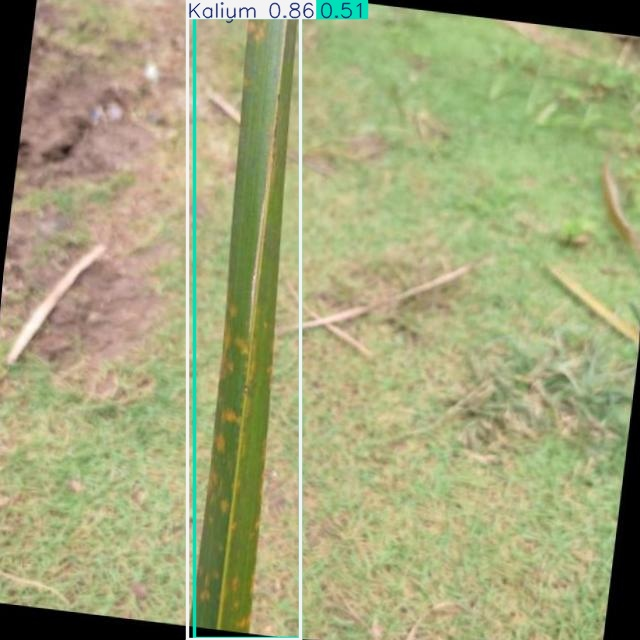Kalium: (188, 1, 300, 639)
Megnesium: (194, 0, 301, 638)
